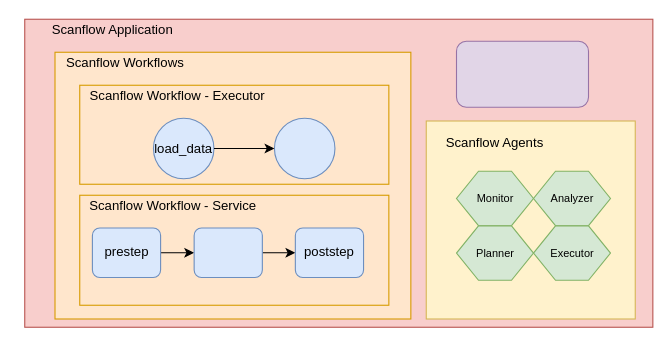
The diagram is 672 pixels wide and 347 high, and some of its shapes have lost their labels. Each missing label, with the centre of its shape:
model: point (304, 148)
modeling: point (227, 252)
Scanflow Tracker (Auto genterated): point (521, 73)
